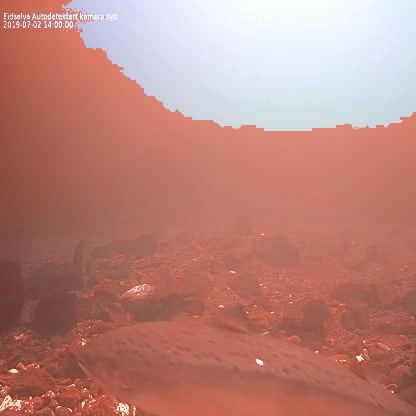salmon: (71, 296, 415, 415)
